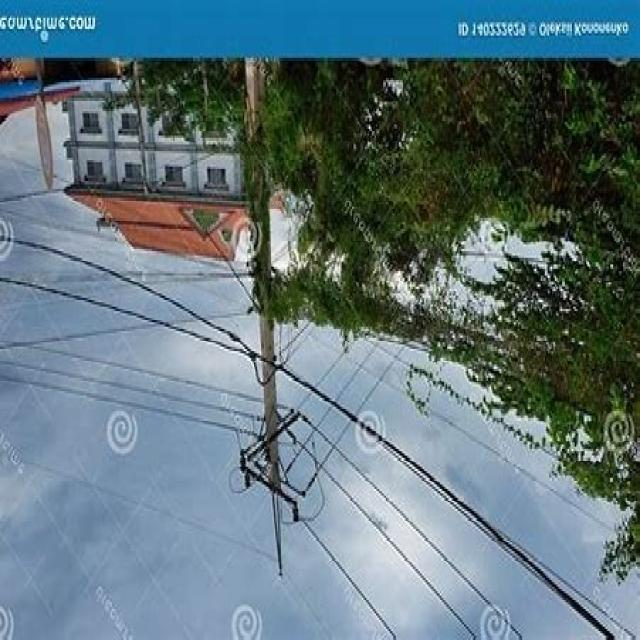critical vegetation: (282, 217, 638, 424)
